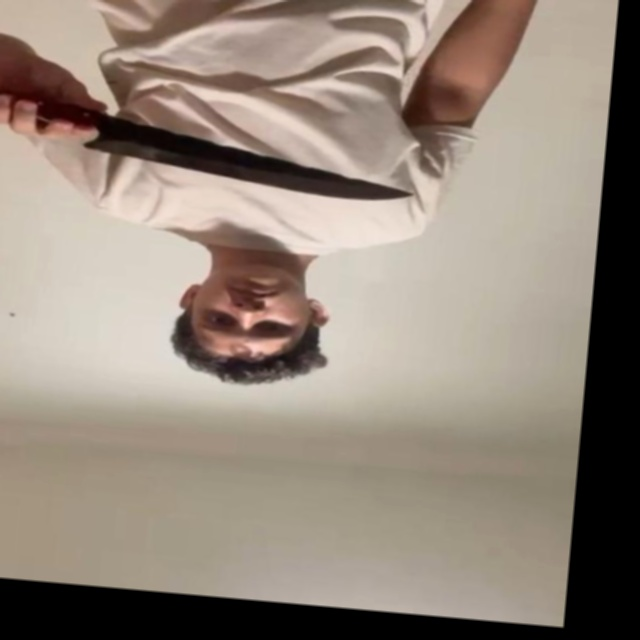Sharp-Object: (81, 113, 417, 207)
